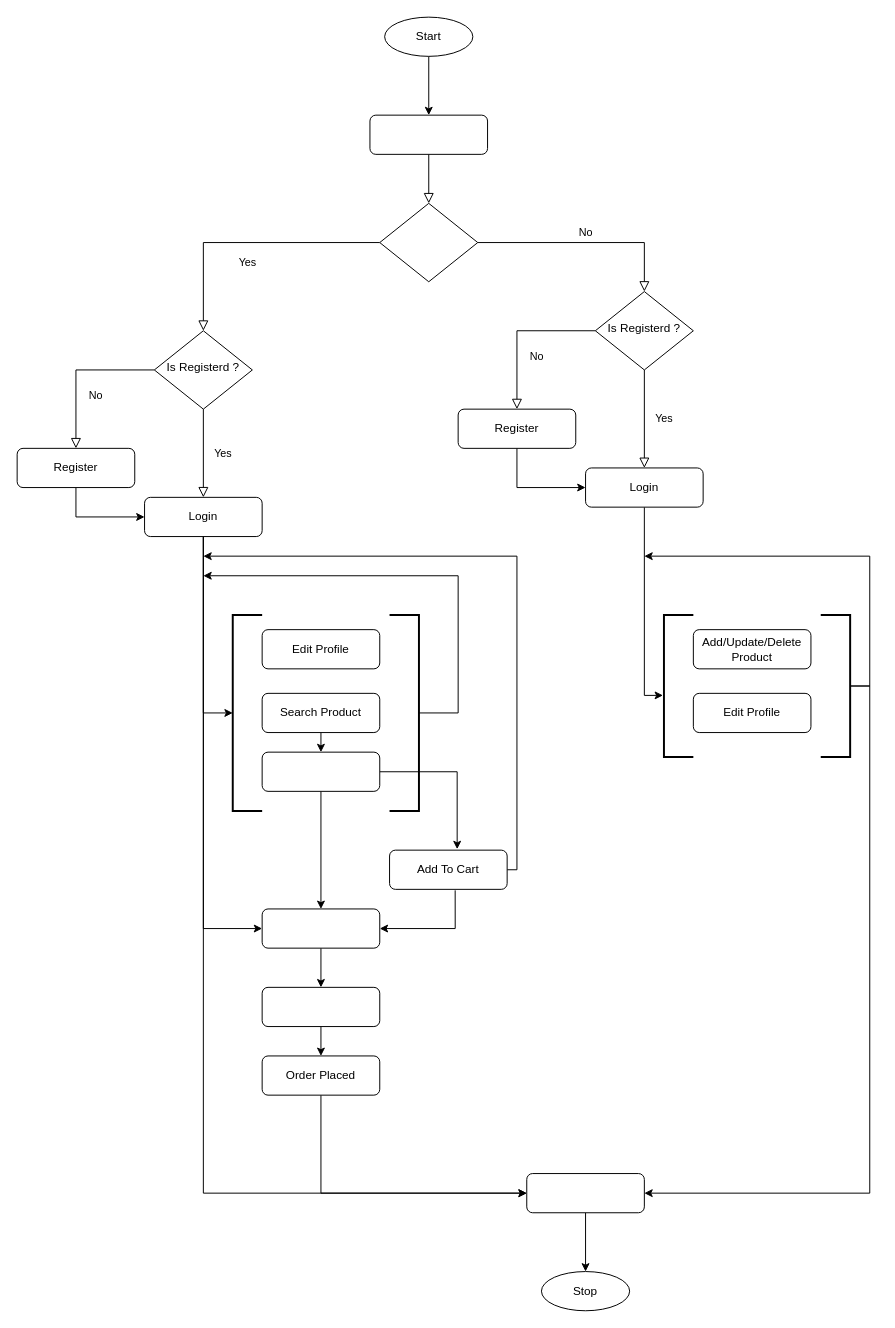
Some shapes in this 895 by 1328 pixel diagram are drawn without their labels. The centre of each missing label's shape, as x and y in pixels:
"Buy Product" belongs at point 320,928.
"Is Buyer ?" belongs at point 428,242.
"Log out" belongs at point 585,1193.
"Payment" belongs at point 320,1006.
"User" belongs at point 428,134.
"View Product" belongs at point 320,771.
